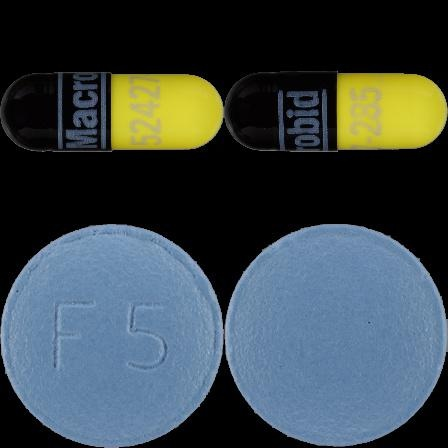63187-263: (0, 0, 224, 224)
